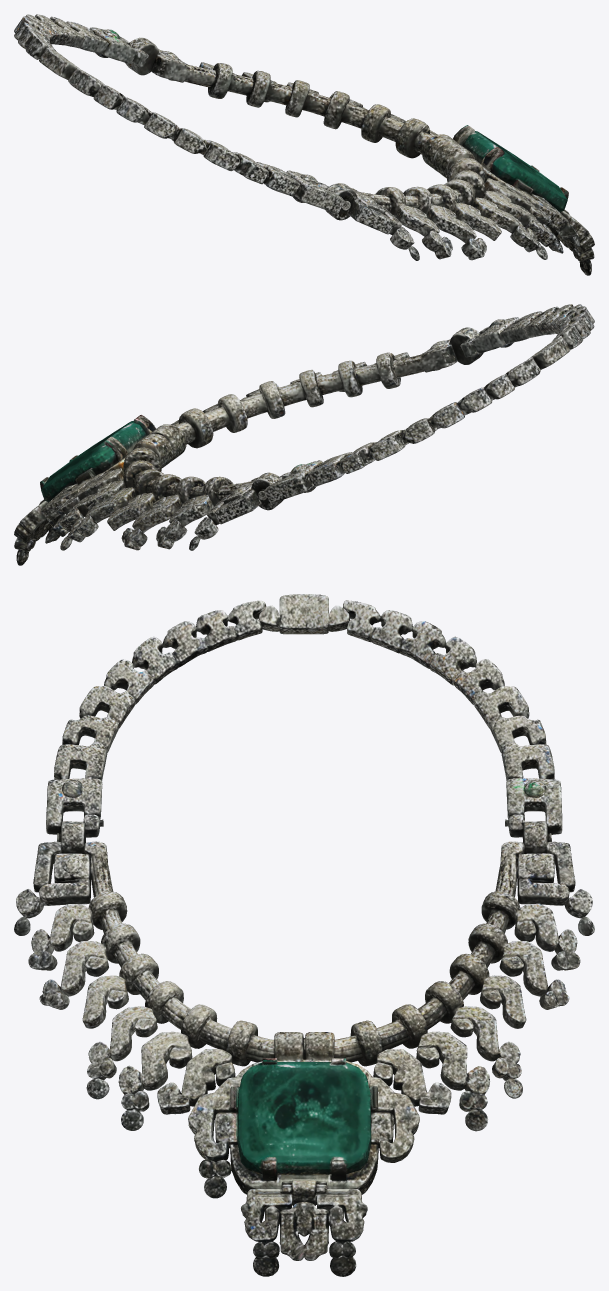
Rendered from ocean-whisper.glb.
3 renders of one model, top to bottom at view 1: azimuth 30°, elevation 25°; view 2: azimuth 150°, elevation 25°; view 3: azimuth 270°, elevation 25°, orthographic. The views are drawn at different scales.
Parts seen in each view (by area): view 1: tripo_node_17871b4b-e7b6-47ed-a6b3-04bcf06f7929; view 2: tripo_node_17871b4b-e7b6-47ed-a6b3-04bcf06f7929; view 3: tripo_node_17871b4b-e7b6-47ed-a6b3-04bcf06f7929.
Boxes of the visible parts, <box> form: tripo_node_17871b4b-e7b6-47ed-a6b3-04bcf06f7929: <box>14,14,594,275</box>; tripo_node_17871b4b-e7b6-47ed-a6b3-04bcf06f7929: <box>14,304,594,565</box>; tripo_node_17871b4b-e7b6-47ed-a6b3-04bcf06f7929: <box>14,594,594,1276</box>.
Size of the model in its own units: 0.9783 by 0.5872 by 0.7941.
1 material, 1 textured.
